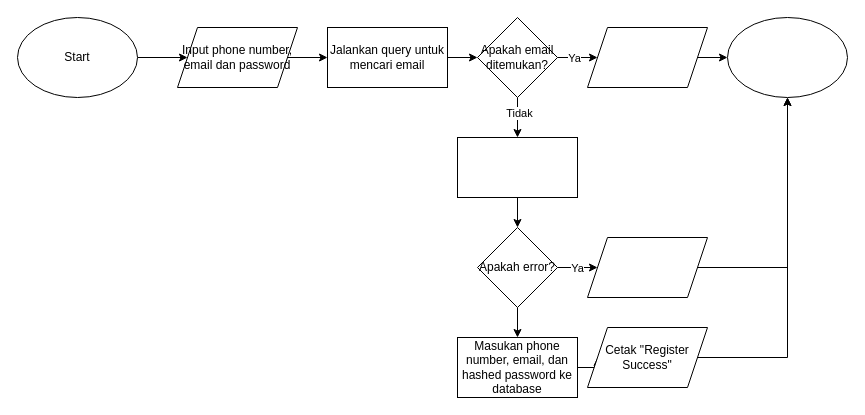
The diagram is 865 pixels wide and 415 high, and some of its shapes have lost their labels. Here are the shapes that lost their labels. From the top down, the centre of each, then its label:
point 647,57: Email sudah ada
point 787,57: Selesai
point 517,167: bcrypt password
point 647,267: Cetak error
